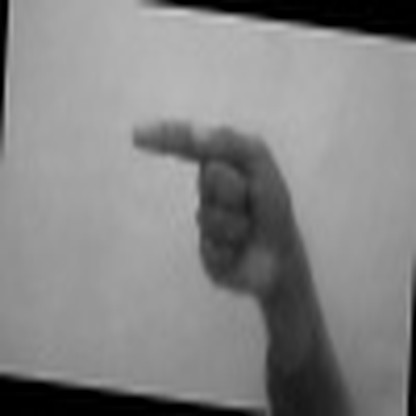g: (115, 106, 314, 294)
